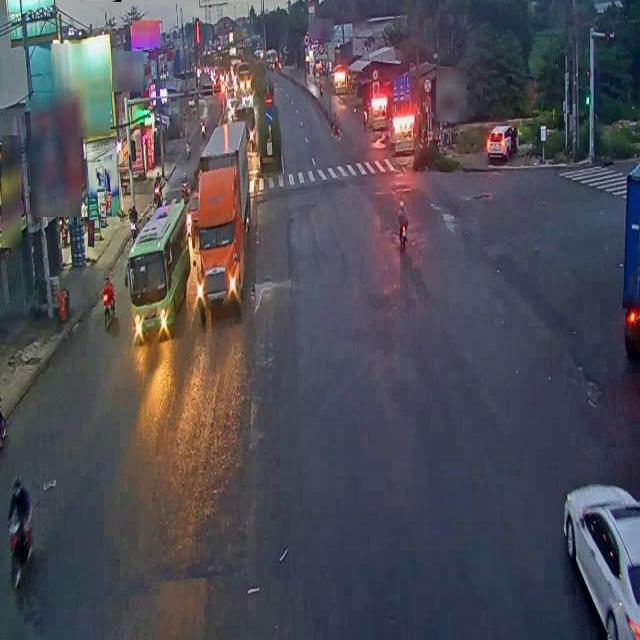bus: (131, 207, 187, 336)
motorcycle: (7, 477, 35, 585), (395, 195, 411, 257)
truck: (198, 132, 245, 302)
